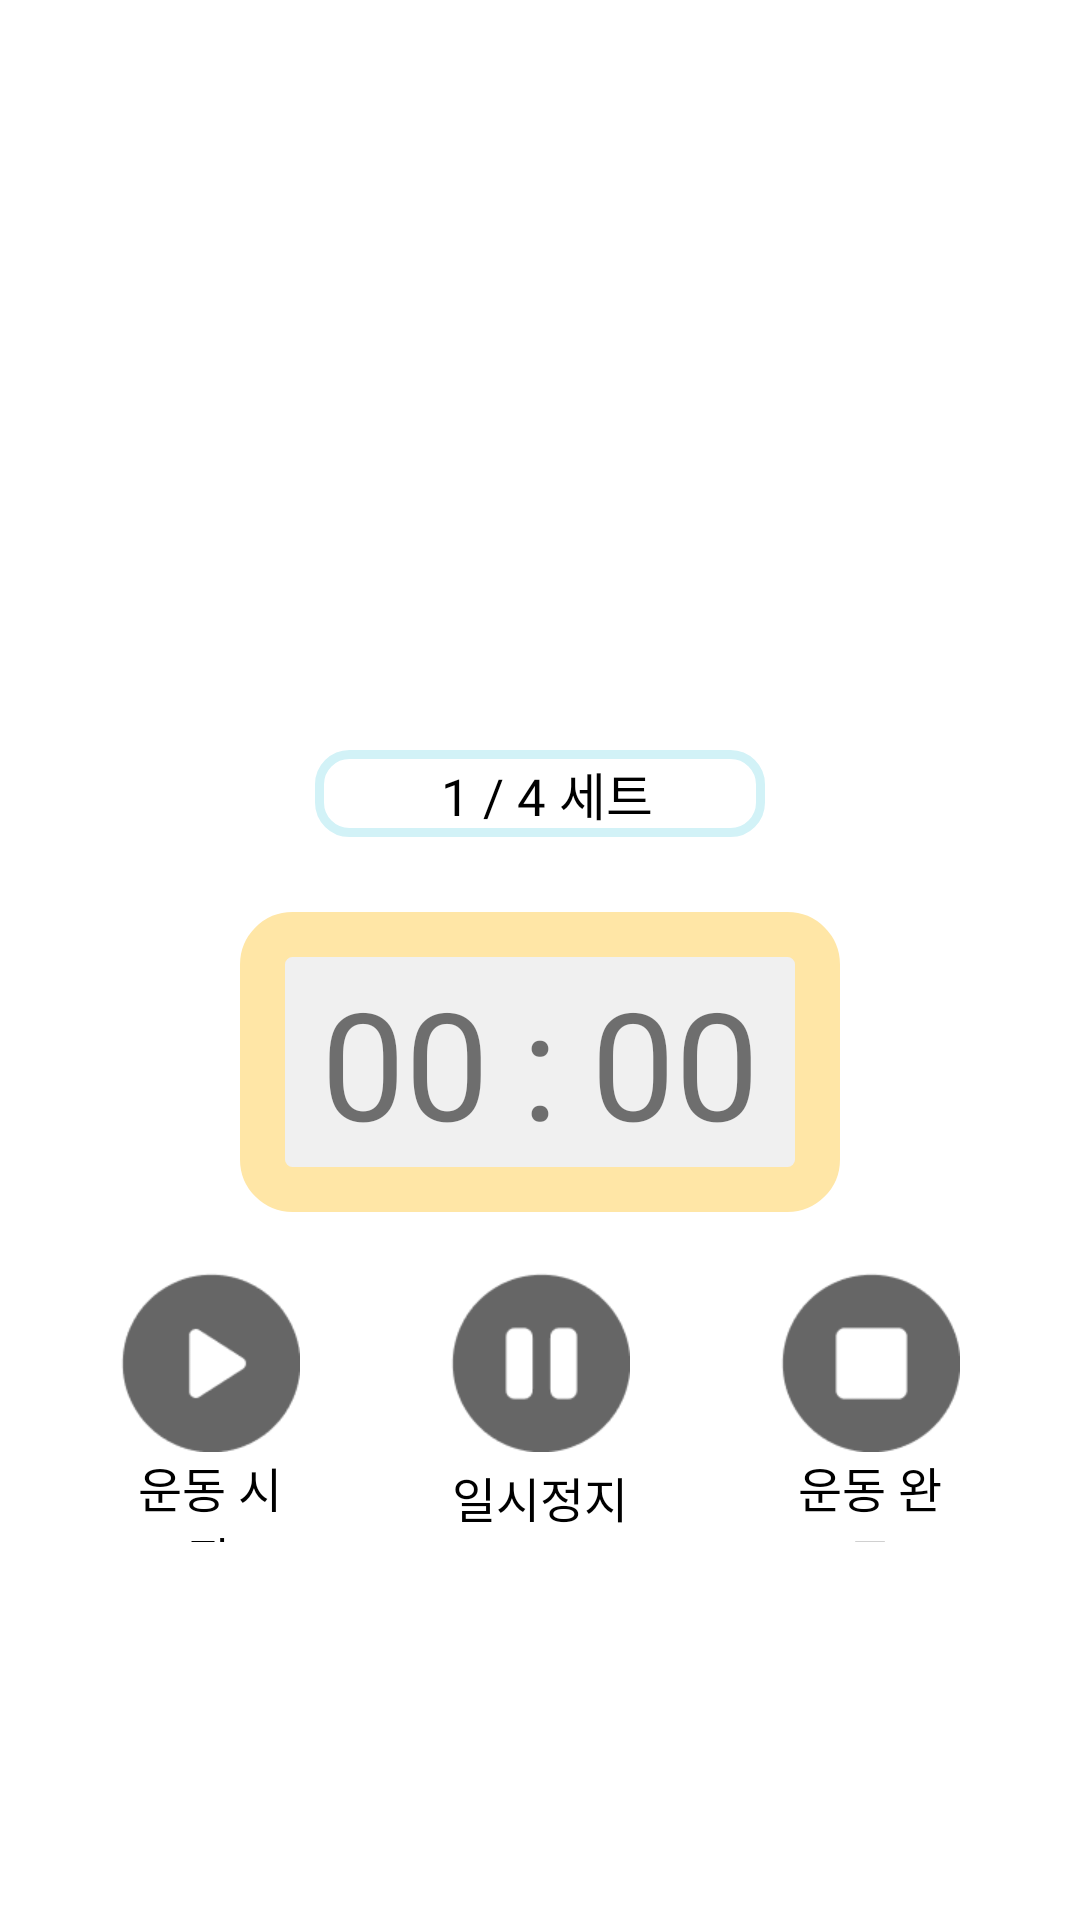

Icons on this 1080px x 1920px Android screen, each with its box as [x1,y1,x2,y2]:
stop: [782,1274,960,1452]
